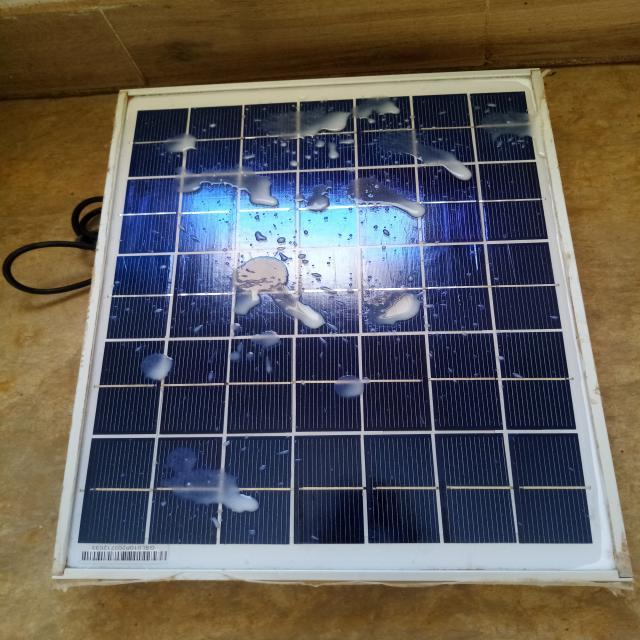faulty: (57, 71, 626, 580)
